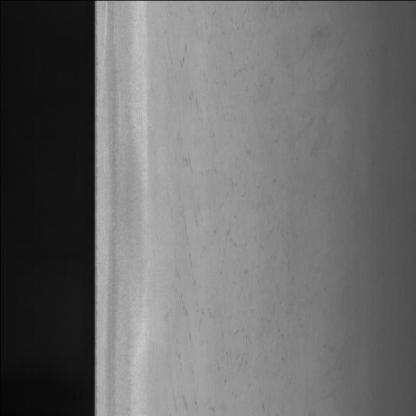silk_spot: (158, 75, 242, 416)
